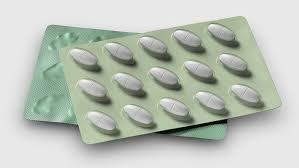pill_Strip: (60, 17, 280, 142), (24, 25, 133, 124), (138, 36, 170, 59), (208, 23, 238, 46), (123, 104, 153, 127), (231, 84, 262, 106), (159, 98, 190, 120), (113, 73, 144, 95), (195, 91, 226, 113), (172, 29, 203, 51), (86, 111, 117, 133), (69, 48, 99, 70), (104, 42, 134, 64), (78, 79, 108, 101), (219, 53, 249, 75), (149, 67, 180, 88), (183, 60, 214, 81), (139, 36, 166, 54), (208, 23, 234, 41)
